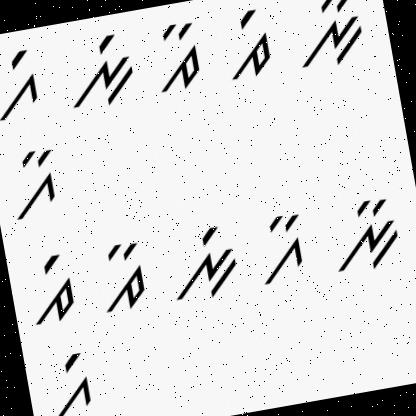gan: (0, 141, 64, 230), (248, 207, 312, 292)
gang: (36, 346, 103, 416), (0, 46, 45, 127)
ngan: (324, 191, 404, 278), (284, 0, 371, 75)
ngang: (54, 27, 143, 114), (161, 216, 243, 310)
tan: (140, 18, 208, 98), (92, 234, 154, 318)
tang: (16, 247, 80, 330), (214, 2, 280, 82)
